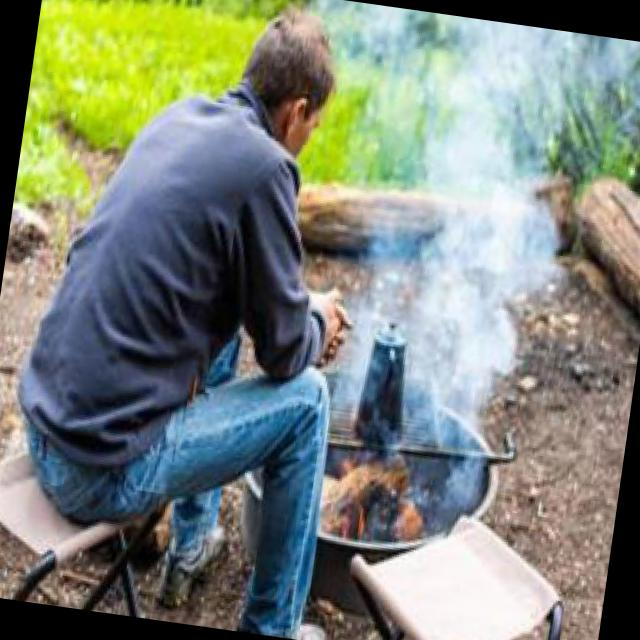fire: (318, 454, 425, 548)
smoke: (325, 6, 614, 476)
